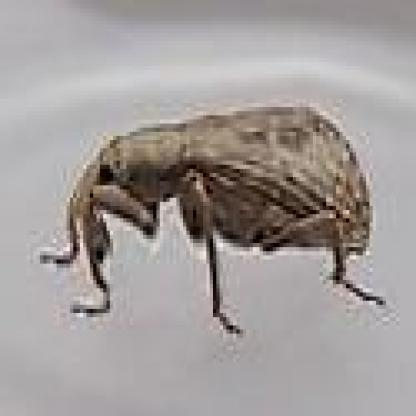rice-bug: (50, 101, 379, 320)
